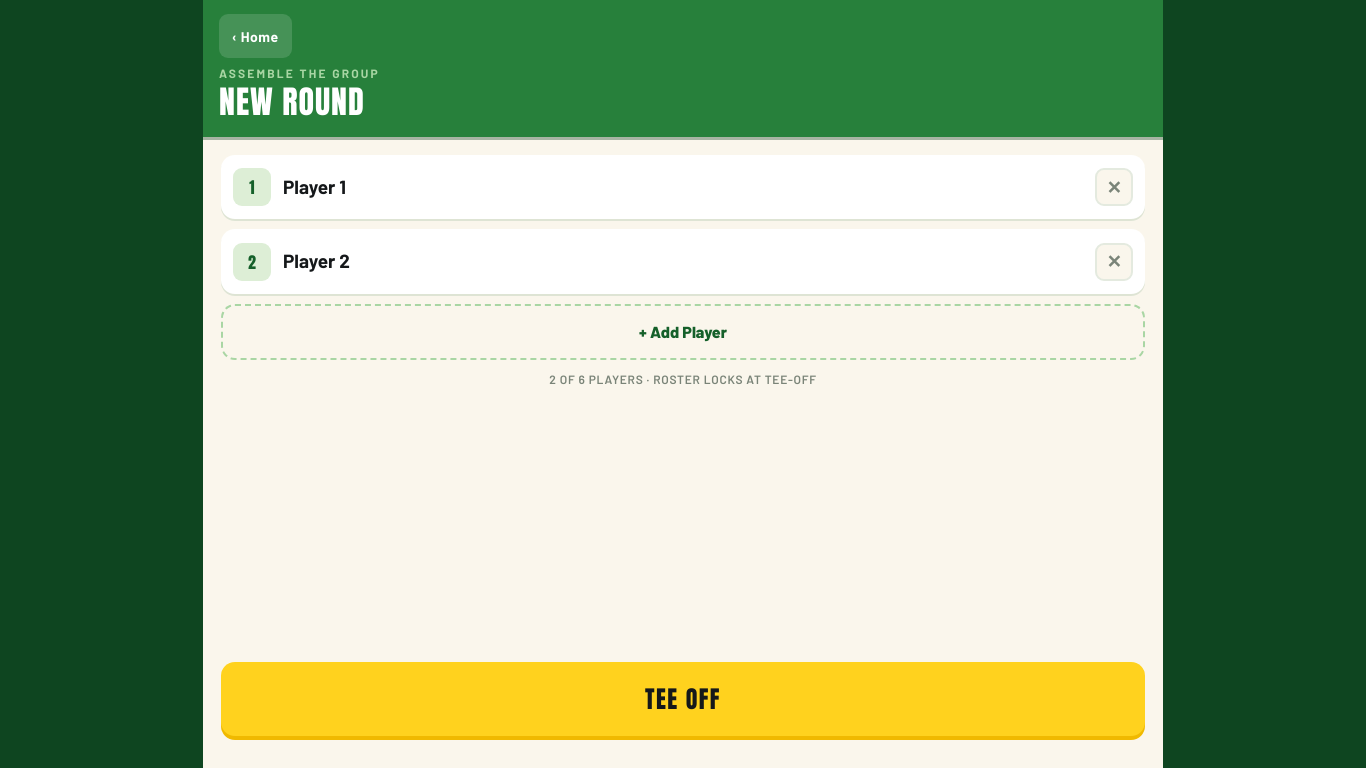
NewRound › selects the pre-filled name on focus so typing replaces it
Step 1. Click the field named "Player 1 name" → [683, 187], box [281,165,1085,209]
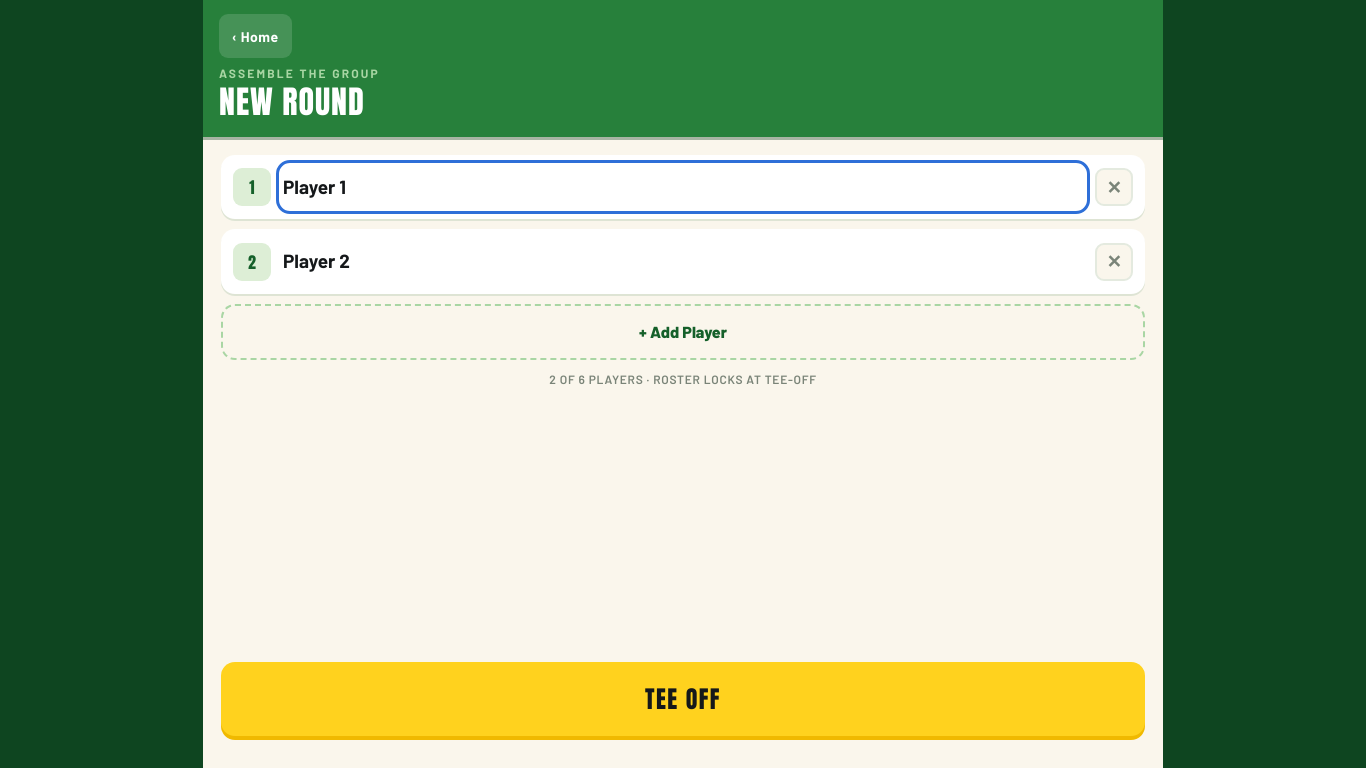
Step 2. Type keys "Sam"
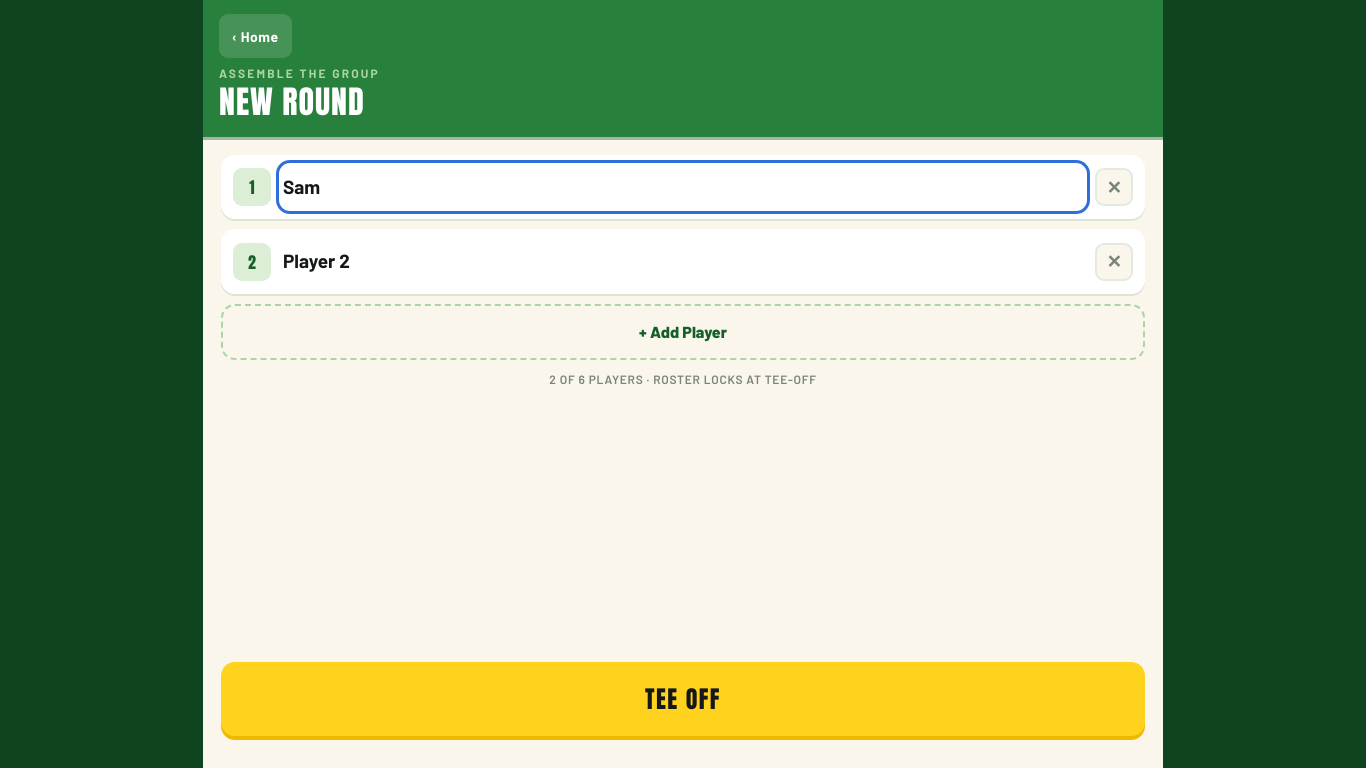
Now the field named "Player 1 name" holds "Sam", box [281,165,1085,209]
